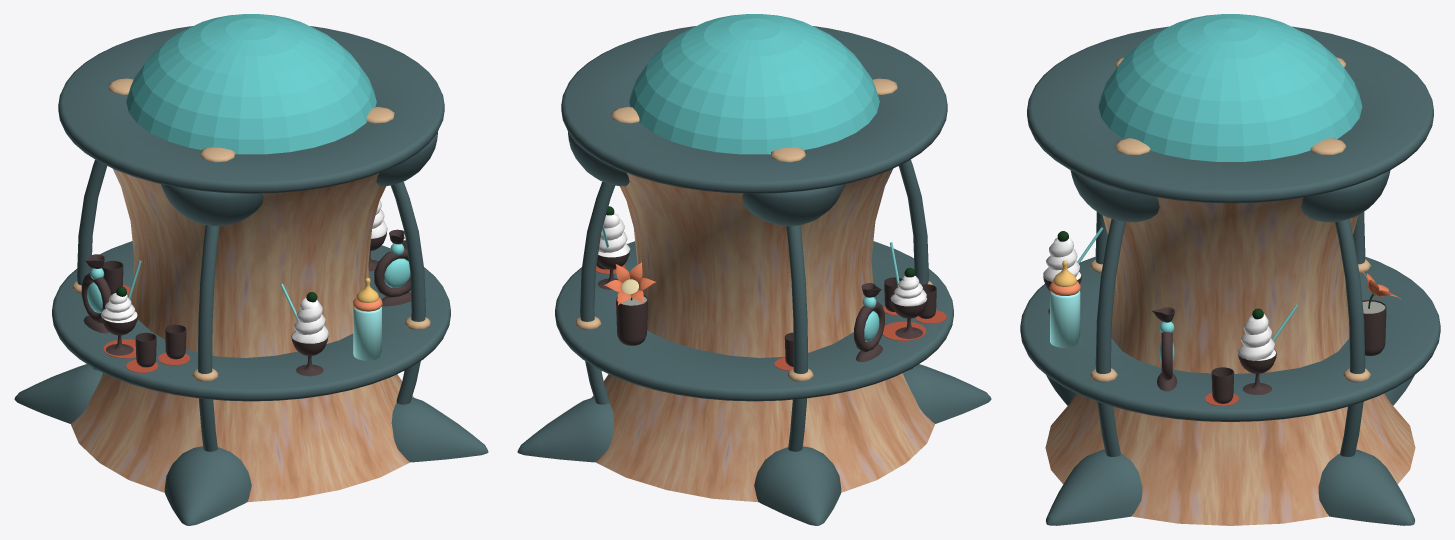
The model's file is FI_007_bar_counter_pillar.glb.
The picture shows the model from 3 angles, left to right: view 1: azimuth 30°, elevation 25°; view 2: azimuth 150°, elevation 25°; view 3: azimuth 270°, elevation 25°; orthographic projection. The views are drawn at different scales.
Parts seen in each view (by area): view 1: pillar_structure, counter, food_and_drink; view 2: pillar_structure, counter, food_and_drink; view 3: pillar_structure, counter, food_and_drink.
Boxes of the visible parts, x1,y1,x2,y2 form: pillar_structure: (14, 14, 488, 525); counter: (52, 26, 450, 401); food_and_drink: (81, 200, 411, 376); pillar_structure: (517, 14, 991, 525); counter: (555, 26, 953, 401); food_and_drink: (596, 206, 946, 370); pillar_structure: (1045, 14, 1415, 525); counter: (1020, 26, 1440, 421); food_and_drink: (1043, 227, 1400, 406).
Size of the model in its own units: 3.39 by 3.73 by 3.39.
16 materials, 1 textured.
